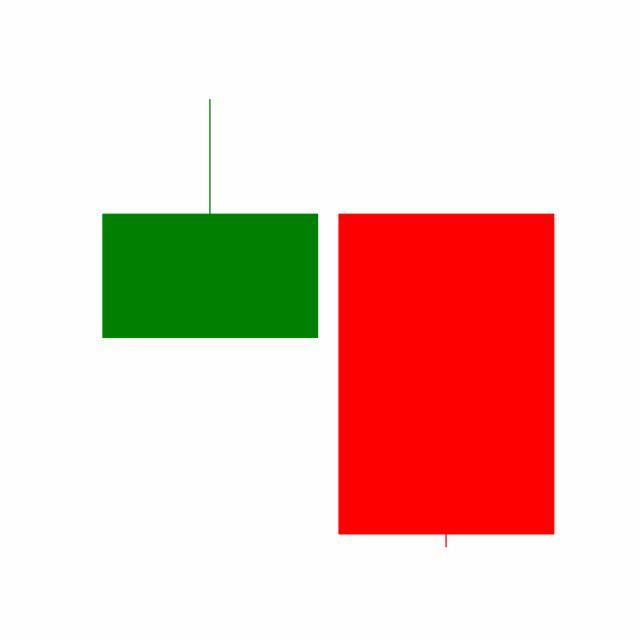Marubozu: (328, 211, 566, 552)
